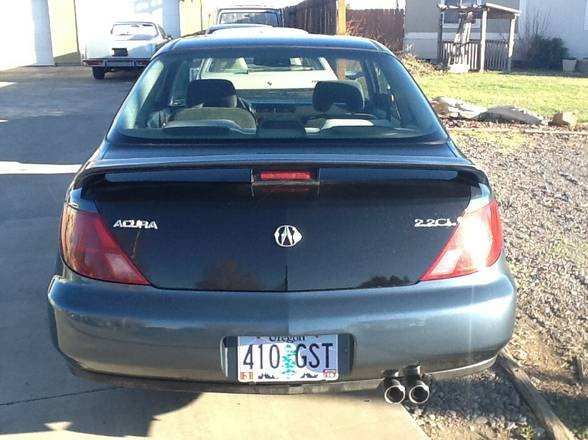acura: (39, 35, 539, 409)
